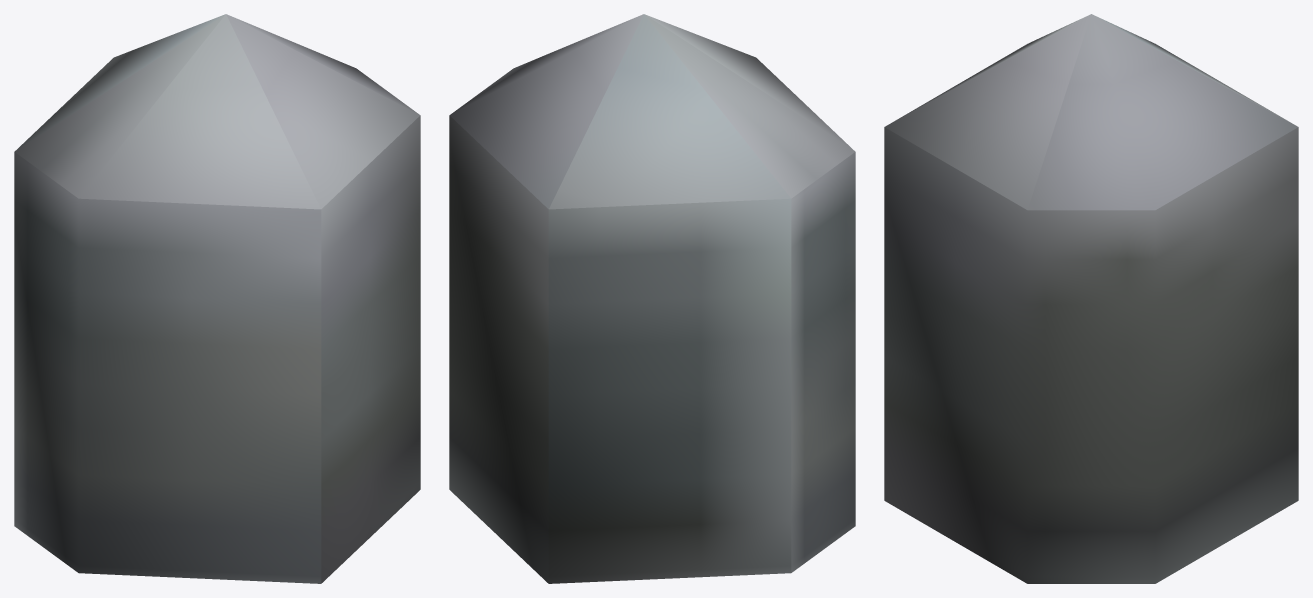
The model's file is imperial_gunboat_turretbase_nose_l3.fbx.
The picture shows the model from 3 angles, left to right: view 1: azimuth 30°, elevation 25°; view 2: azimuth 150°, elevation 25°; view 3: azimuth 270°, elevation 25°; orthographic projection.
Visible parts, largest first — view 1: mesh_node; view 2: mesh_node; view 3: mesh_node.
Boxes of the visible parts, left/top/right/bottom form: mesh_node: left=14, top=14, right=420, bottom=583; mesh_node: left=449, top=14, right=855, bottom=583; mesh_node: left=884, top=14, right=1298, bottom=583.
Bounding box in the file's own units: 2.99 × 4.12 × 3.15.
1 material, 1 textured.
